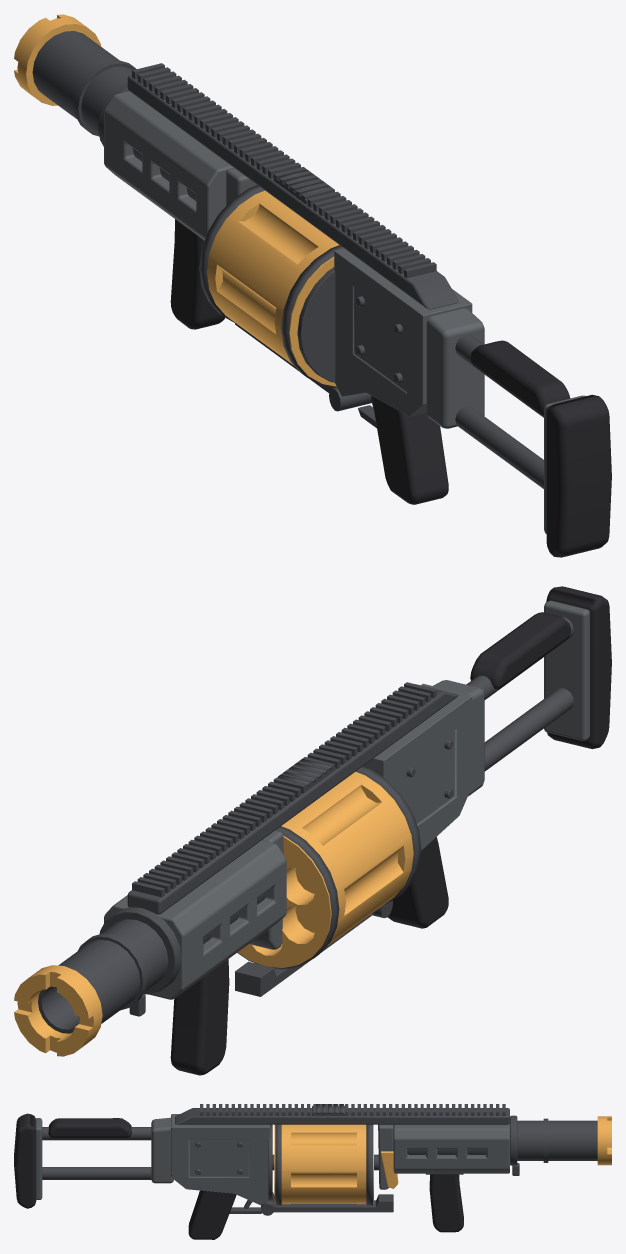
The model's file is boomer.glb.
The picture shows the model from 3 angles, top to bottom: view 1: azimuth 30°, elevation 25°; view 2: azimuth 150°, elevation 25°; view 3: azimuth 270°, elevation 25°; orthographic projection. The views are drawn at different scales.
Visible parts, largest first — view 1: drum, receiver.003, handguard.003, buttpad.004, rail.002, strap, barrel.007, pgrip.004, stockmount, cheek.001, foregrip, recoilplate (+4 smaller); view 2: drum, handguard.003, rail.002, receiver.003, barrel.007, strap, foregrip, crown, buttplate.001, buttpad.004, cheek.001, pgrip.004 (+7 smaller); view 3: drum, receiver.003, handguard.003, strap, barrel.007, rail.002, buttpad.004, foregrip, pgrip.004, cheek.001, stocktube.001, stockmount (+11 smaller).
Boxes of the visible parts, <box> form: drum: <box>199,185,343,387</box>; receiver.003: <box>334,248,472,416</box>; handguard.003: <box>104,91,233,240</box>; buttpad.004: <box>546,394,611,557</box>; rail.002: <box>132,63,436,278</box>; strap: <box>127,75,458,309</box>; barrel.007: <box>32,31,196,200</box>; pgrip.004: <box>371,396,448,504</box>; stockmount: <box>426,308,484,428</box>; cheek.001: <box>470,340,570,415</box>; foregrip: <box>170,219,224,329</box>; recoilplate: <box>297,267,335,382</box>; drum: <box>237,766,421,969</box>; handguard.003: <box>104,840,286,999</box>; rail.002: <box>132,682,436,897</box>; receiver.003: <box>363,683,472,850</box>; barrel.007: <box>38,891,266,1033</box>; strap: <box>127,684,458,914</box>; foregrip: <box>170,959,229,1075</box>; crown: <box>14,965,102,1056</box>; buttplate.001: <box>544,600,589,740</box>; buttpad.004: <box>546,586,611,749</box>; cheek.001: <box>470,612,570,688</box>; pgrip.004: <box>388,837,448,928</box>; drum: <box>274,1124,373,1205</box>; receiver.003: <box>171,1114,269,1205</box>; handguard.003: <box>393,1123,509,1173</box>; strap: <box>175,1108,509,1124</box>; barrel.007: <box>407,1120,597,1160</box>; rail.002: <box>200,1104,505,1115</box>; buttpad.004: <box>14,1113,36,1208</box>; foregrip: <box>429,1174,463,1232</box>; pgrip.004: <box>188,1190,236,1239</box>; cheek.001: <box>48,1118,131,1137</box>; stocktube.001: <box>42,1167,151,1179</box>; stockmount: <box>151,1117,173,1183</box>.
Size of the model in its own units: 0.1436 by 0.235 by 0.997.
